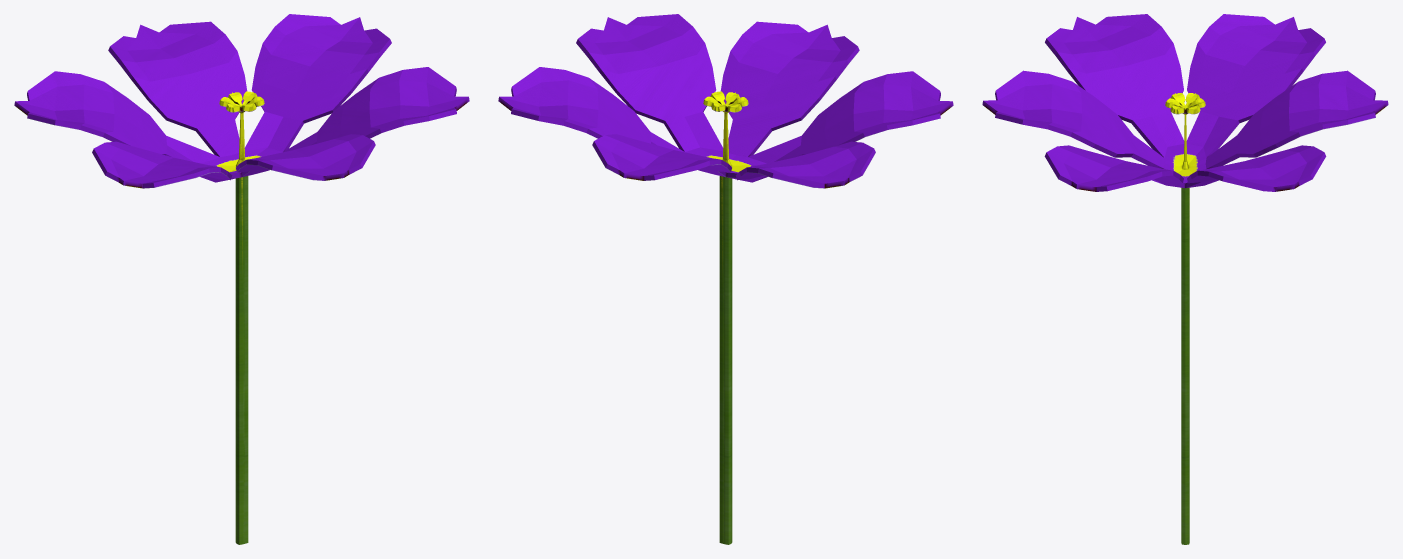
The model's file is blue_eyed_grass.glb.
The picture shows the model from 3 angles, left to right: view 1: azimuth 30°, elevation 25°; view 2: azimuth 150°, elevation 25°; view 3: azimuth 270°, elevation 25°; orthographic projection.
Parts seen in each view (by area): view 1: blue_eyed_grass; view 2: blue_eyed_grass; view 3: blue_eyed_grass.
Part boxes in pixels (x1,y1,x2,y2): blue_eyed_grass: [14, 14, 469, 544]; blue_eyed_grass: [498, 14, 953, 544]; blue_eyed_grass: [982, 14, 1388, 544].
Size of the model in its own units: 4.92 by 6.01 by 4.95.
Materials: 1 (1 with a texture image).
